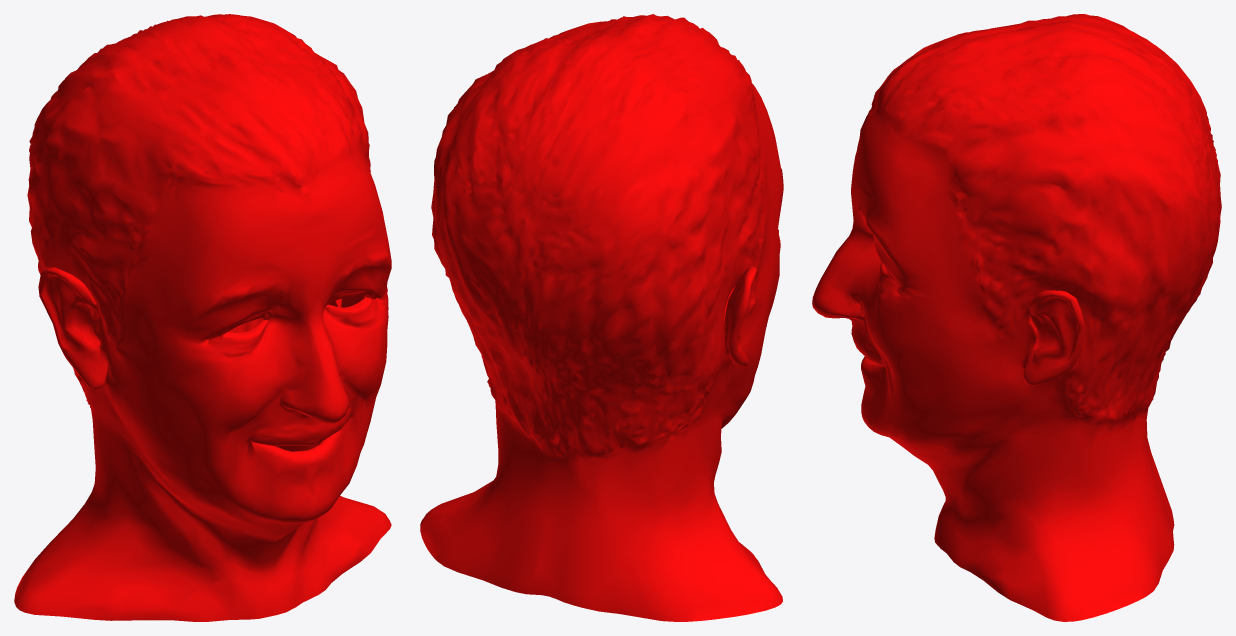
Rendered from walt.obj.
3 renders of one model, left to right at view 1: azimuth 30°, elevation 25°; view 2: azimuth 150°, elevation 25°; view 3: azimuth 270°, elevation 25°, orthographic. The views are drawn at different scales.
Visible parts, largest first — view 1: Mesh_Mesh_head_geo.001; view 2: Mesh_Mesh_head_geo.001; view 3: Mesh_Mesh_head_geo.001.
Boxes of the visible parts, x1,y1,x2,y2 form: Mesh_Mesh_head_geo.001: (14,14,391,621); Mesh_Mesh_head_geo.001: (420,14,783,621); Mesh_Mesh_head_geo.001: (812,14,1221,621).
Bounding box in the file's own units: 56.34 × 78.64 × 57.44.
